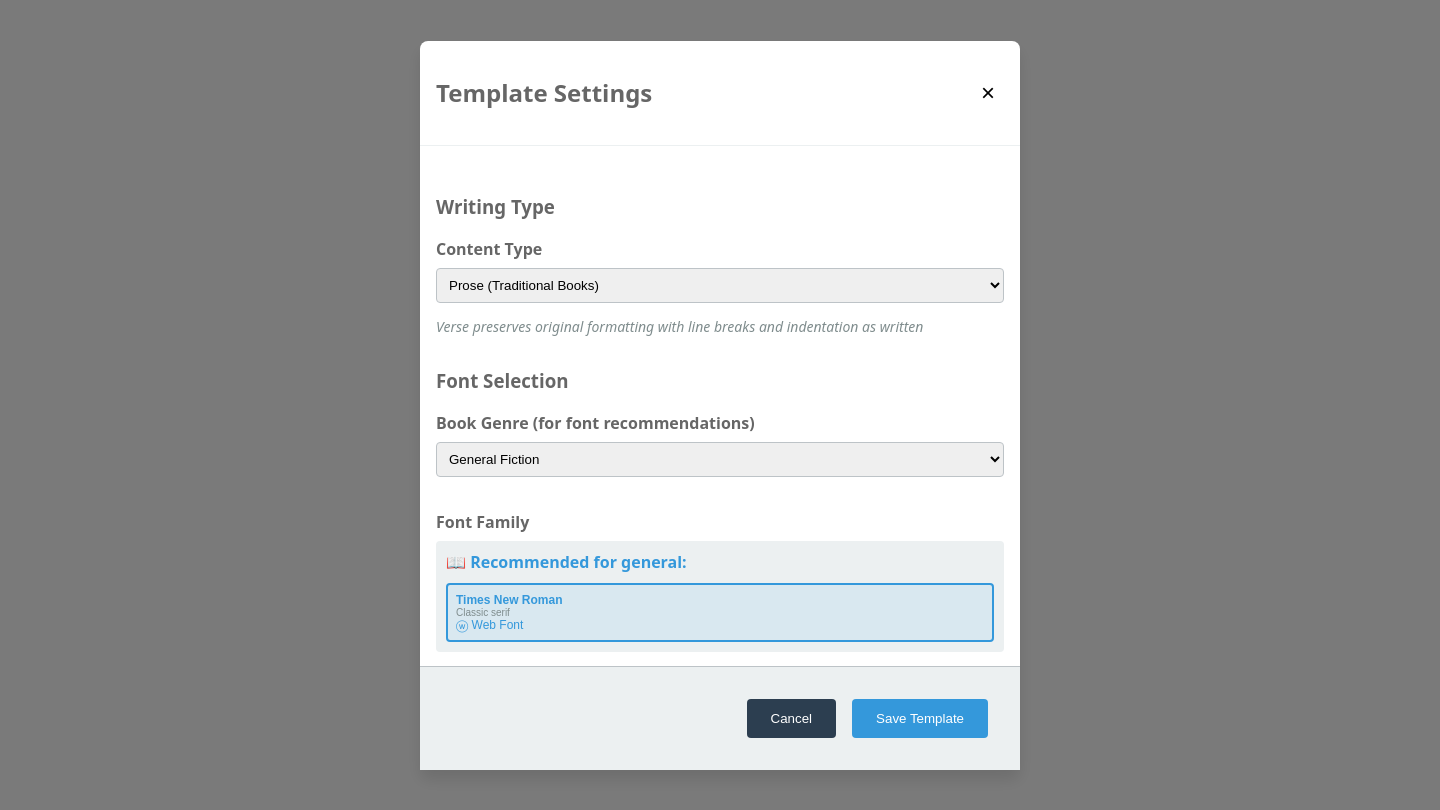
TemplateManager › Integration Tests › maintains other template settings when switching writing types
Check: the text "Times New Roman" is shown, box top-left (456, 593), bottom-right (562, 607)
Select "Verse/Poetry" in the dropdown showing "Prose (Traditional Books)" below "Content Type" at (720, 286), box top-left (436, 268), bottom-right (1004, 303)
(page scrolled)
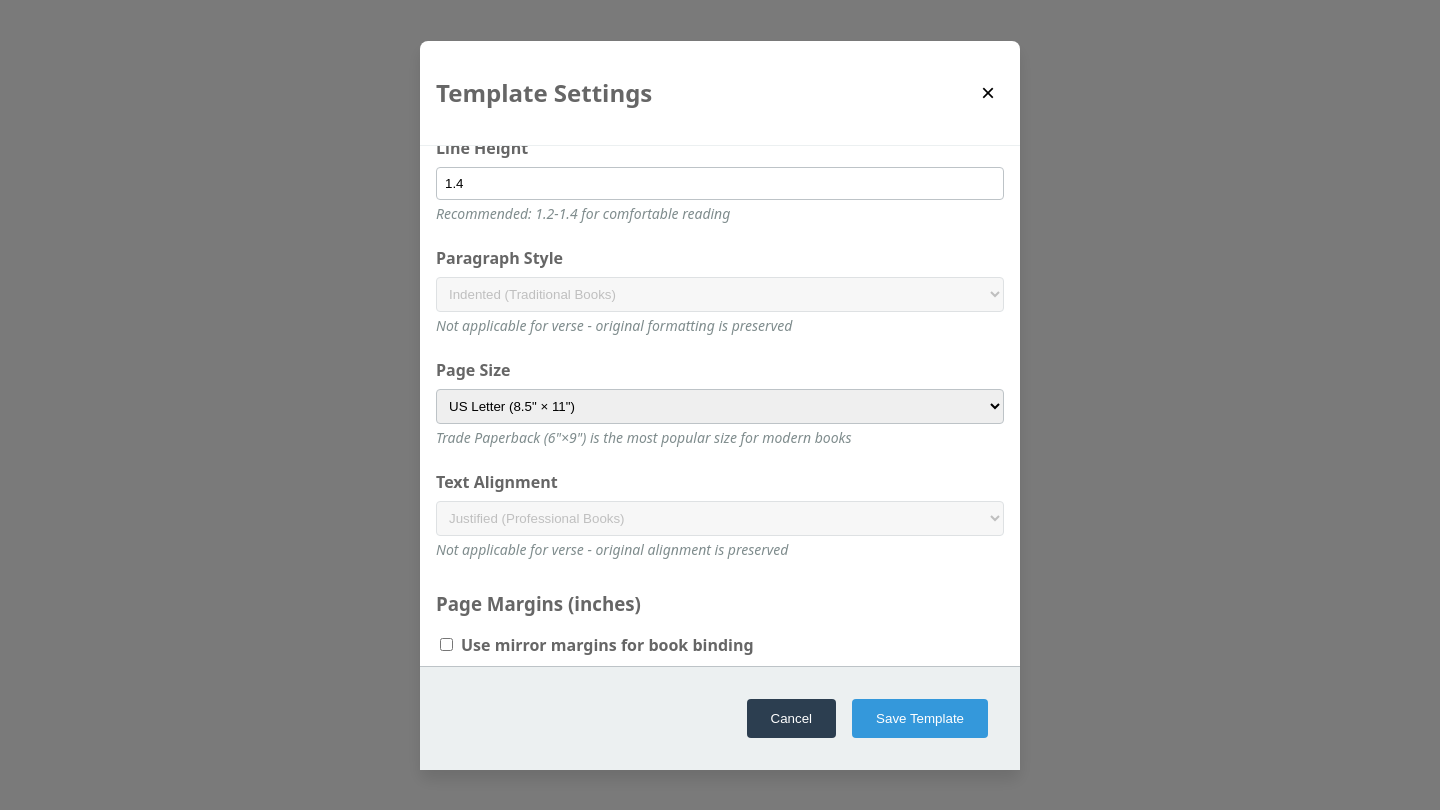
Check: the dropdown showing "US Letter (8.5\" × 11\")" below "Page Size" is shown, box top-left (436, 389), bottom-right (1004, 424)
